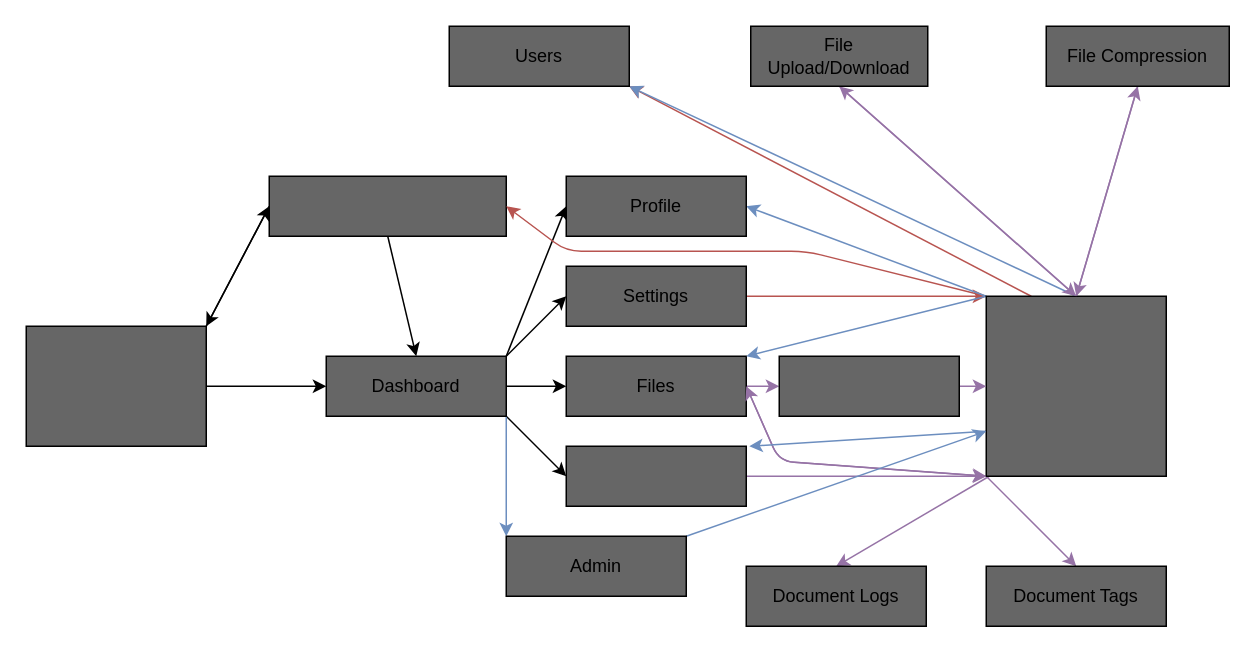
This 1256x653 diagram has some shape labels left out. Each missing label, with the centre of its shape:
Authentication/Authorization: [387,205]
Edit/Save: [868,385]
Event Bus: [1075,385]
Query: [655,475]
User (not a service): [115,385]
